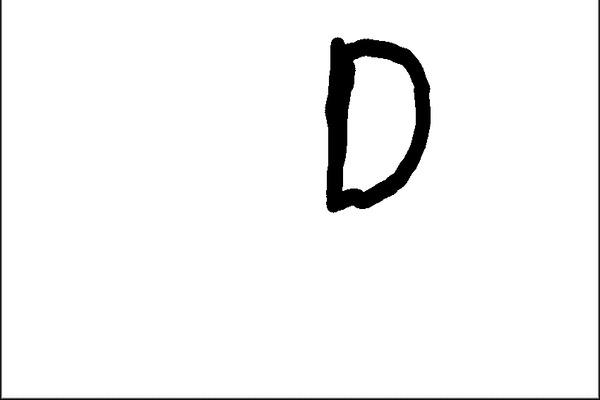D: (315, 29, 435, 218)
